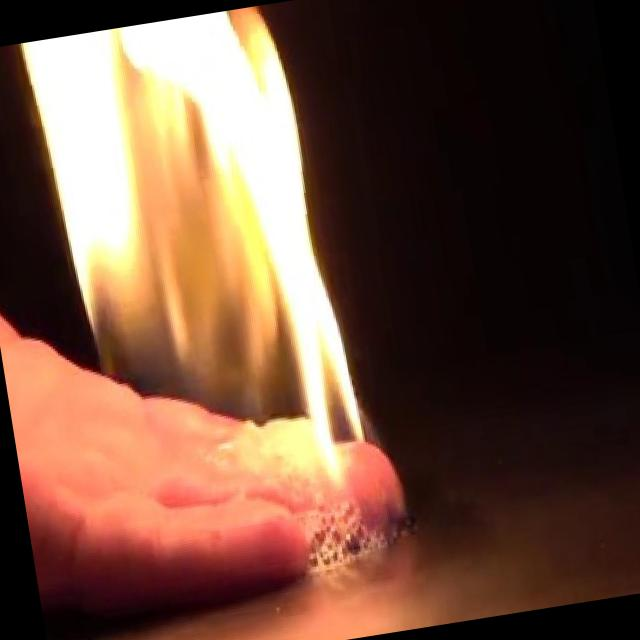Fire: (15, 0, 388, 538)
